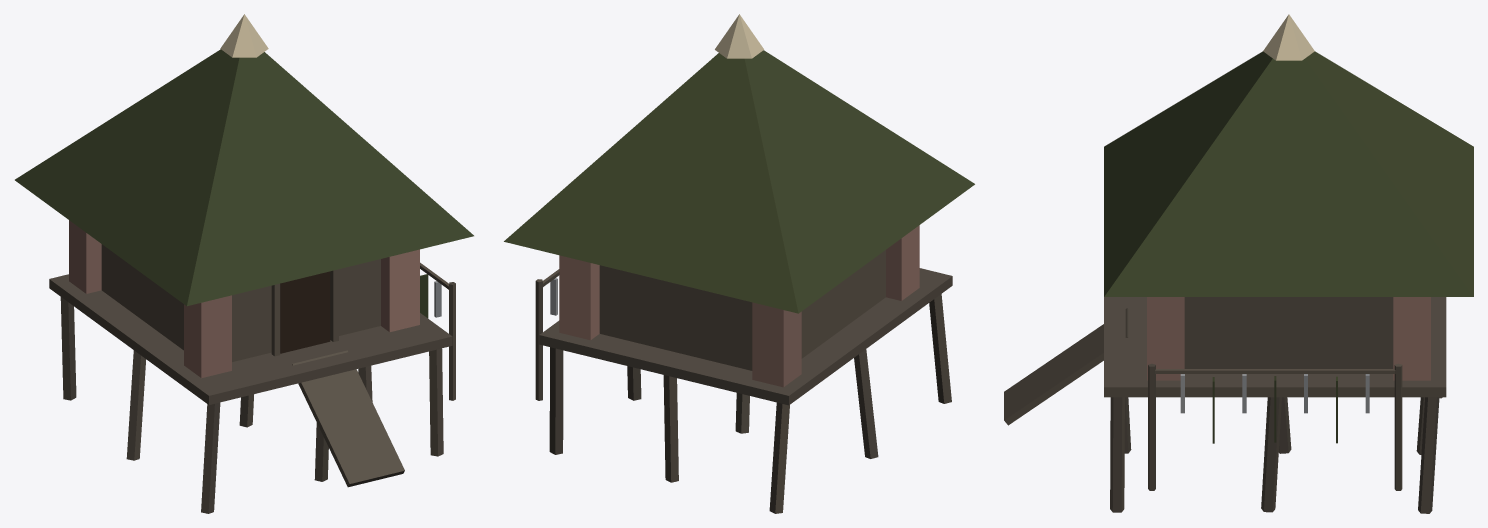
The model's file is reef_hut.glb.
3 renders of one model, left to right at view 1: azimuth 30°, elevation 25°; view 2: azimuth 150°, elevation 25°; view 3: azimuth 270°, elevation 25°, orthographic. The views are drawn at different scales.
Visible parts, largest first — view 1: reef_hut; view 2: reef_hut; view 3: reef_hut.
Part boxes in pixels (x1,y1,x2,y2): reef_hut: (15,14,473,513); reef_hut: (504,14,974,513); reef_hut: (1004,14,1473,513).
Bounding box in the file's own units: 5.28 × 7.06 × 6.86.
2 materials, 2 textured.
